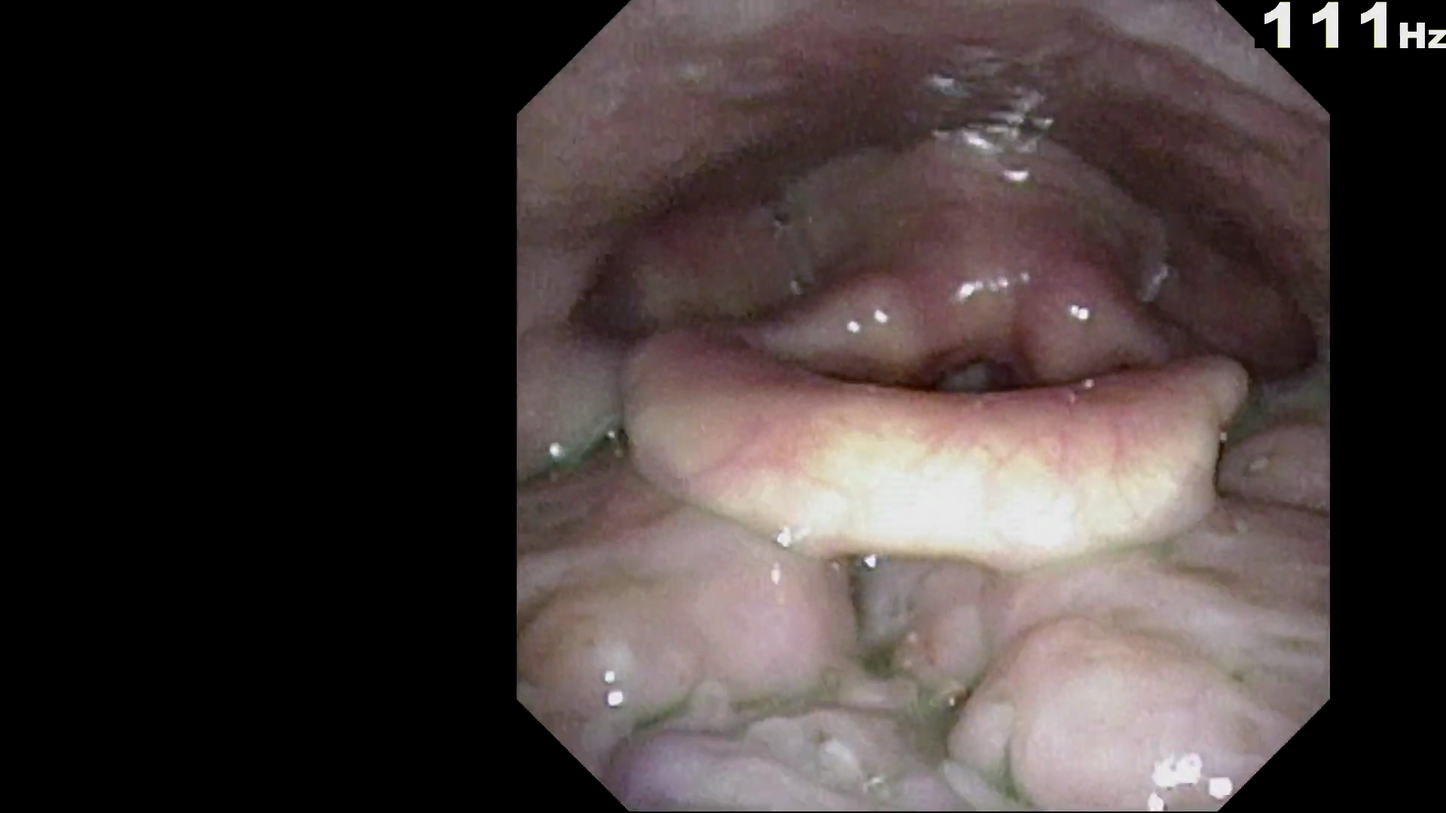epiglottis: (599, 264, 1244, 514)
trachea: (901, 316, 1037, 464)
